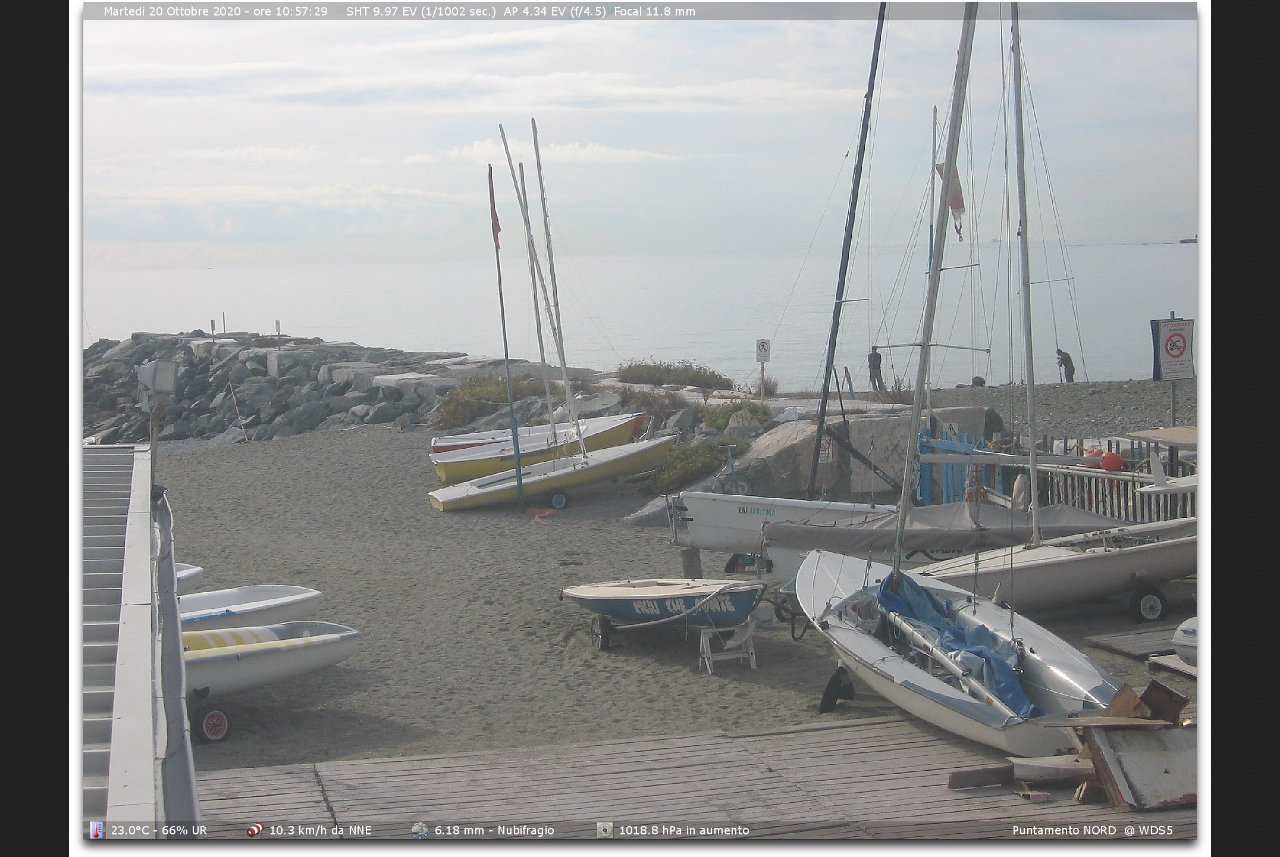no: (480, 163, 509, 254)
